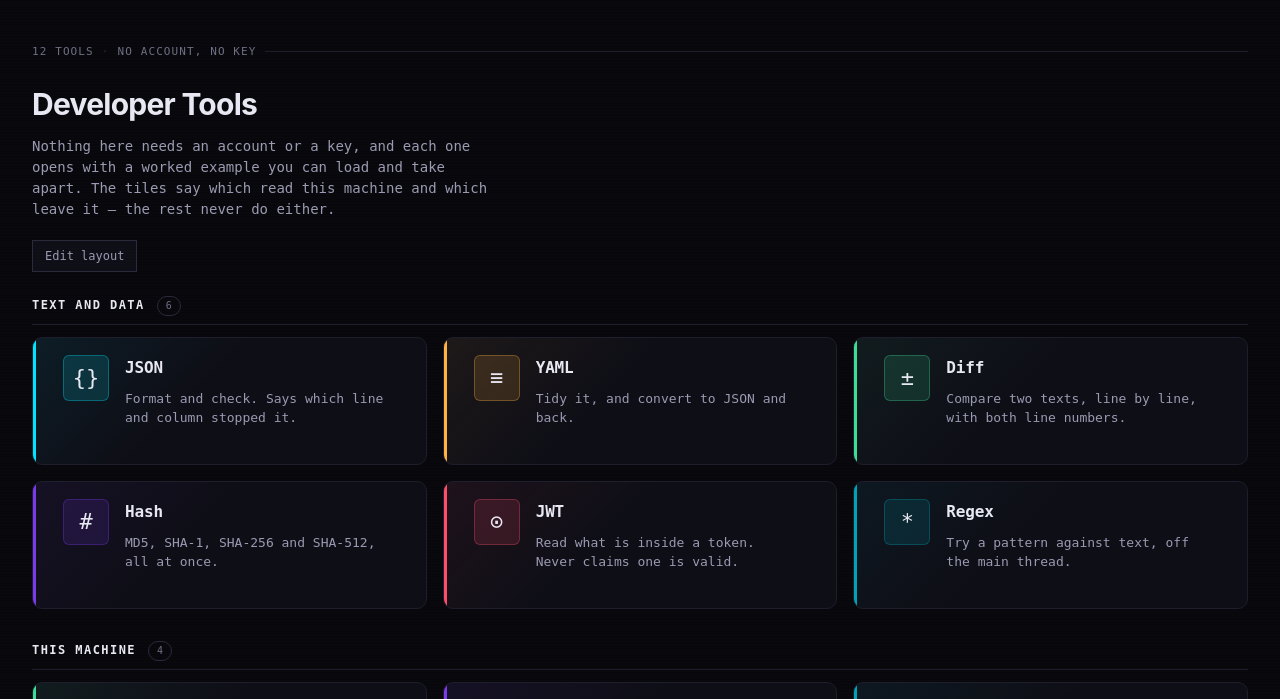
Developer › opens a tool when its tile is chosen
Step 1. Click the button that starts with "JSON" → (225, 397), box x1=57 y1=354 x2=394 y2=441
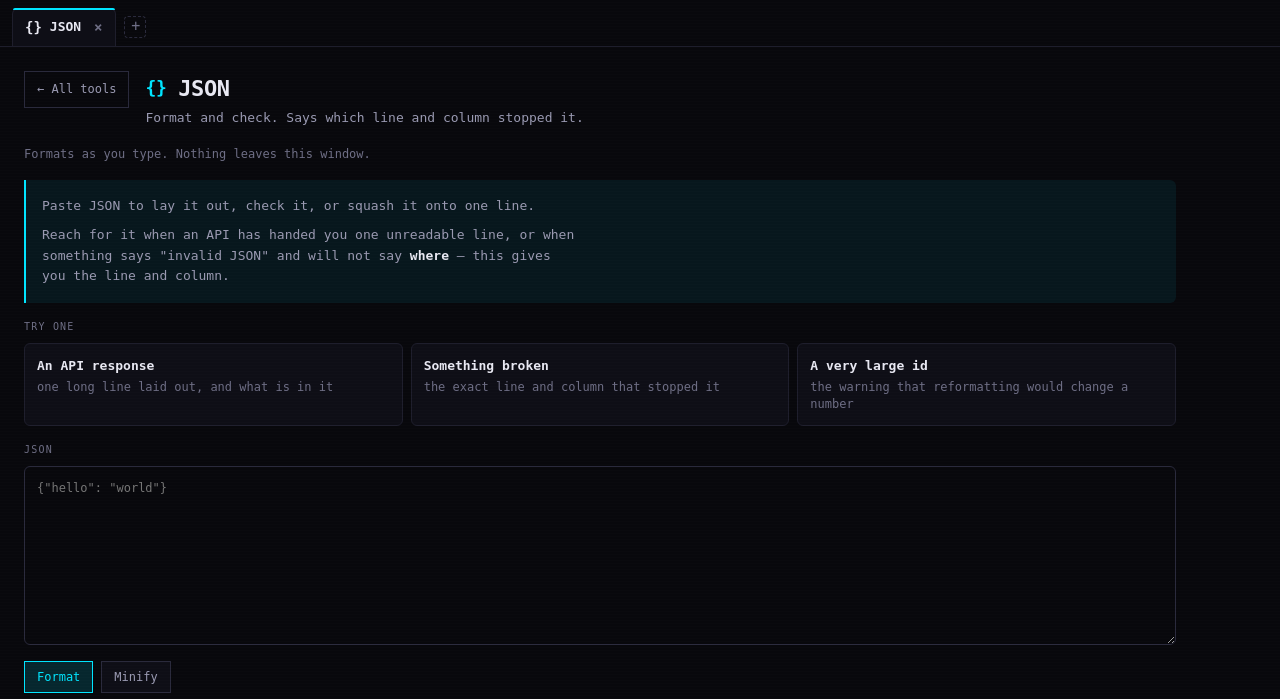
expect the text box labelled "JSON" is shown: met, box x1=24 y1=466 x2=1176 y2=645
